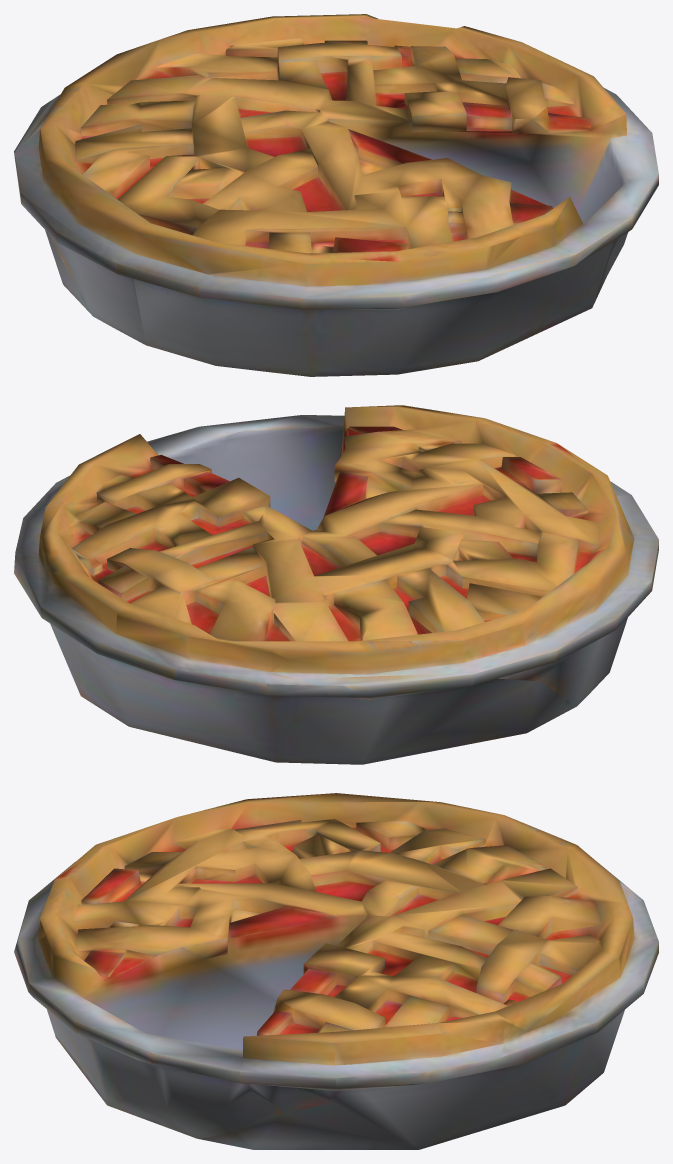
The model's file is g_pingguopai.glb.
The picture shows the model from 3 angles, top to bottom: view 1: azimuth 30°, elevation 25°; view 2: azimuth 150°, elevation 25°; view 3: azimuth 270°, elevation 25°; orthographic projection.
Visible parts, largest first — view 1: node_0; view 2: node_0; view 3: node_0.
Part boxes in pixels (x1=…): node_0: x1=14, y1=14, x2=658, y2=376; node_0: x1=14, y1=405, x2=658, y2=764; node_0: x1=14, y1=793, x2=658, y2=1149.
Size of the model in its own units: 1.19 by 0.2669 by 1.19.
1 material, 1 textured.
